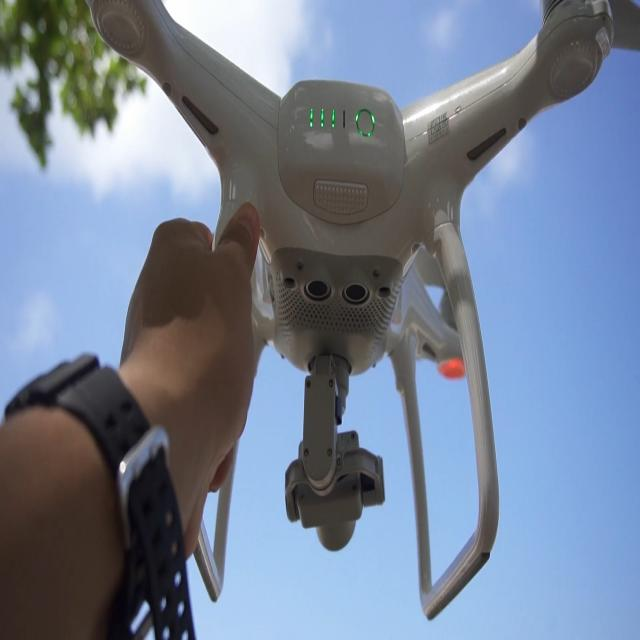Drone: (74, 1, 622, 600)
